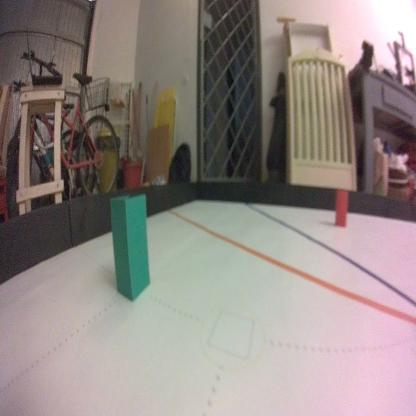green: (108, 188, 152, 304)
red: (333, 188, 349, 227)
